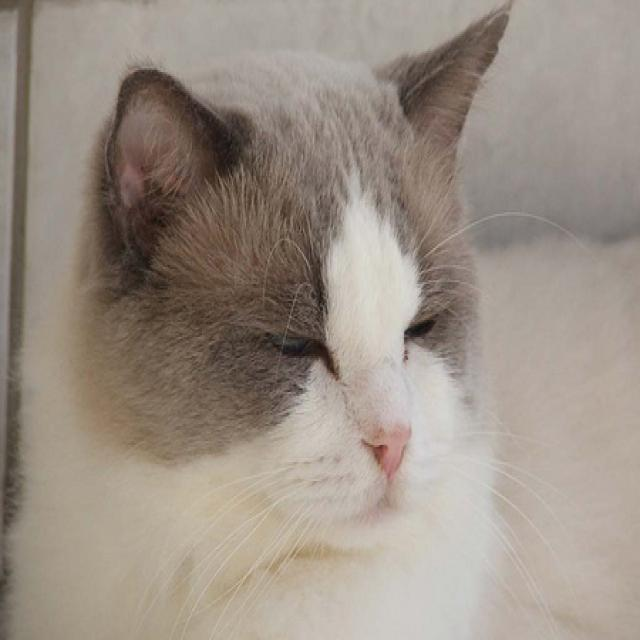Ragdoll: (0, 0, 521, 640)
